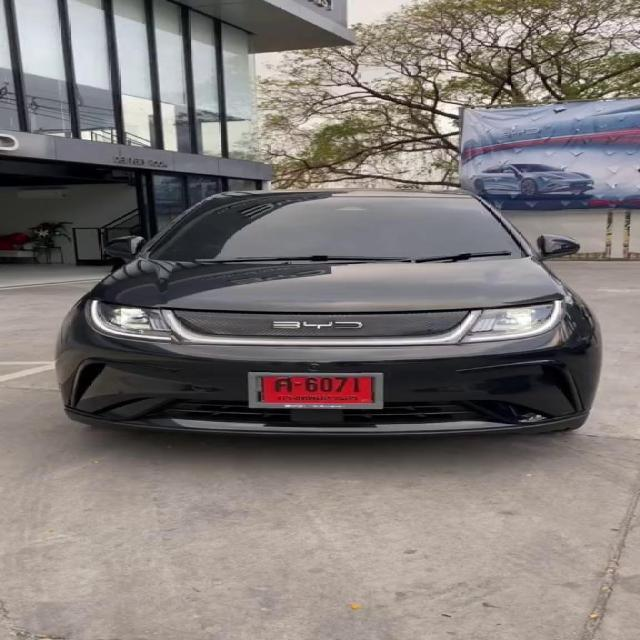Hatchback: (56, 189, 601, 436)
